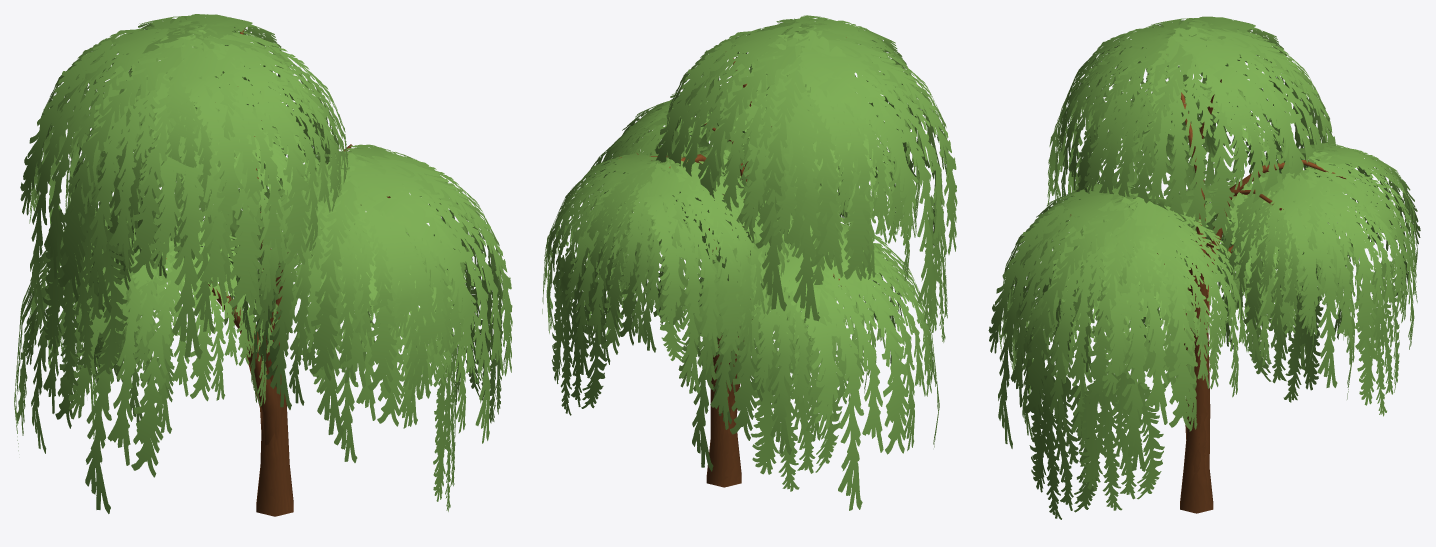
File: willow_02.glb
3 views of the same model, side by side, from view 1: azimuth 30°, elevation 25°; view 2: azimuth 150°, elevation 25°; view 3: azimuth 270°, elevation 25° (orthographic). The views are drawn at different scales.
Visible parts, largest first — view 1: willow_02; view 2: willow_02; view 3: willow_02.
Part boxes in pixels (<box>): willow_02: <box>14,14,512,516</box>; willow_02: <box>542,15,957,510</box>; willow_02: <box>988,16,1420,519</box>.
Size of the model in its own units: 14.01 by 16.33 by 14.58.
Materials: 2 (2 with a texture image).
